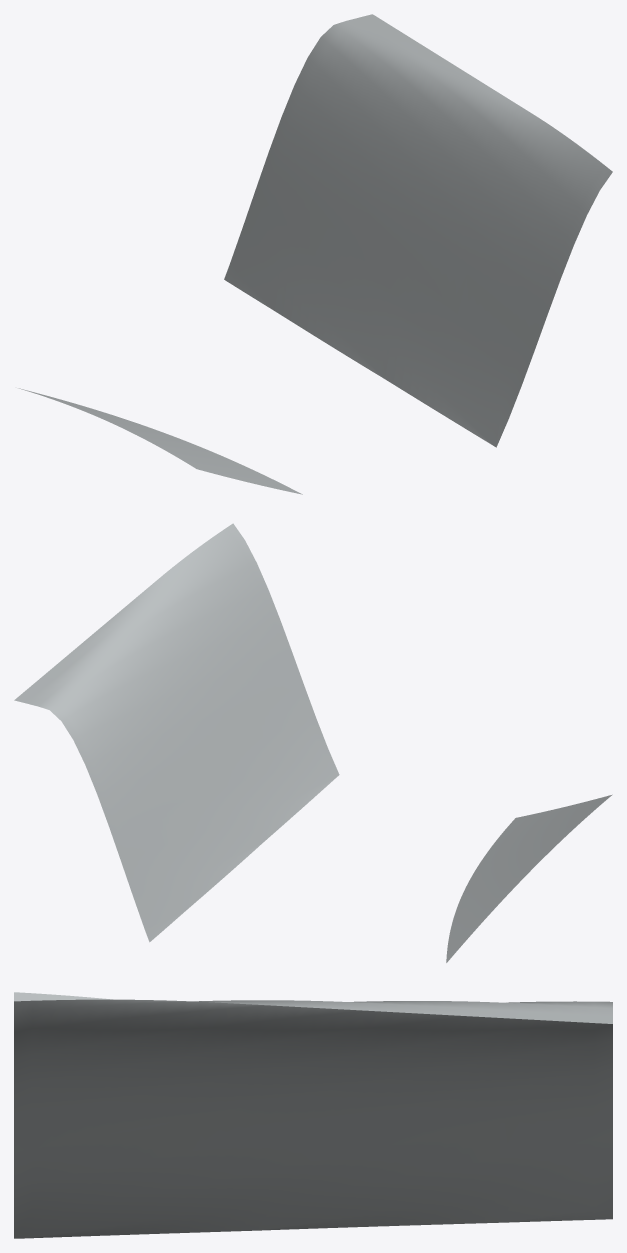
Rendered from alpine-11-6.glb.
The picture shows the model from 3 angles, top to bottom: view 1: azimuth 30°, elevation 25°; view 2: azimuth 150°, elevation 25°; view 3: azimuth 270°, elevation 25°; orthographic projection. The views are drawn at different scales.
Visible parts, largest first — view 1: alpine-11-6; view 2: alpine-11-6; view 3: alpine-11-6.
Part boxes in pixels (x1,y1,x2,y2): alpine-11-6: (18, 14, 612, 494); alpine-11-6: (14, 523, 612, 962); alpine-11-6: (14, 992, 612, 1238).
Size of the model in its own units: 256 by 146 by 256.
1 material, 1 textured.
